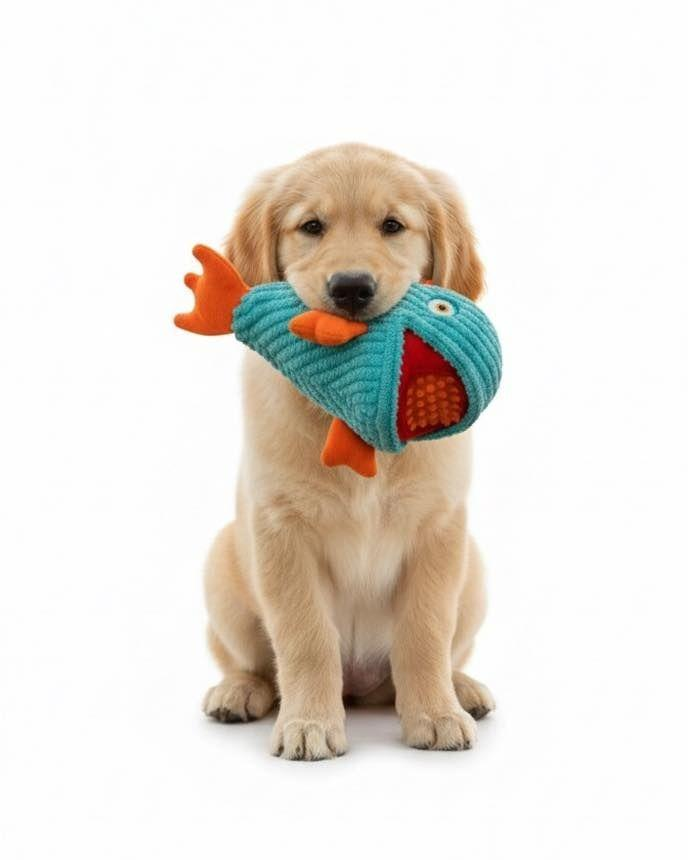puppy-dog: (201, 139, 497, 767)
